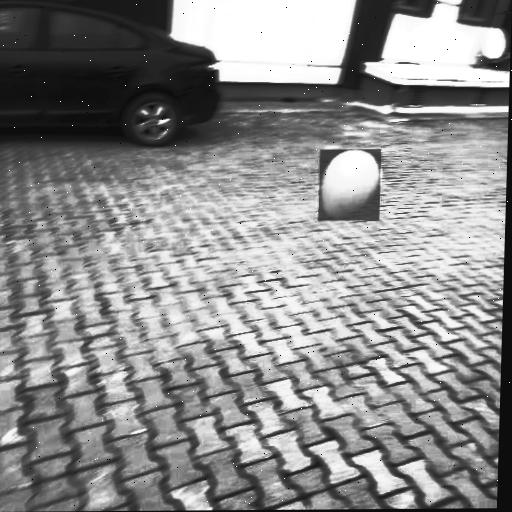balloon: (318, 149, 381, 221)
